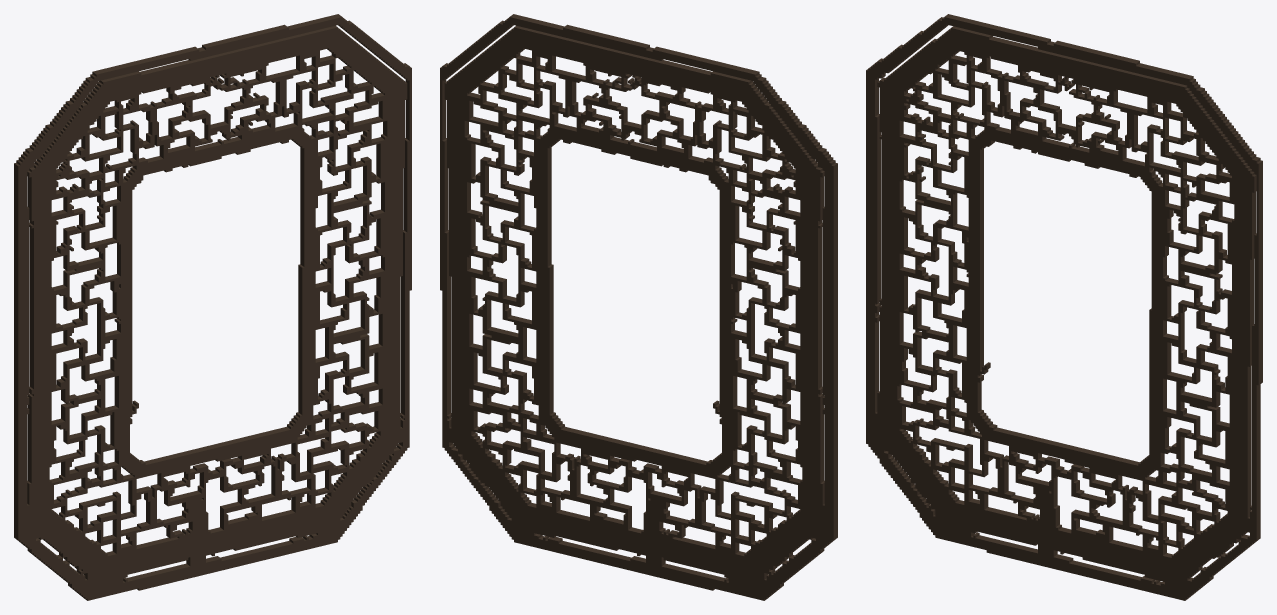
File: lattice_window.glb
3 views of the same model, side by side, from view 1: azimuth 30°, elevation 25°; view 2: azimuth 150°, elevation 25°; view 3: azimuth 330°, elevation 25° (orthographic).
Parts seen in each view (by area): view 1: Lattice_Silhouette; view 2: Lattice_Silhouette; view 3: Lattice_Silhouette.
Part boxes in pixels (x1,y1,x2,y2): Lattice_Silhouette: [14, 14, 411, 600]; Lattice_Silhouette: [440, 14, 837, 600]; Lattice_Silhouette: [866, 14, 1262, 600].
Bounding box in the file's own units: 1.5 × 1.92 × 0.0269.
